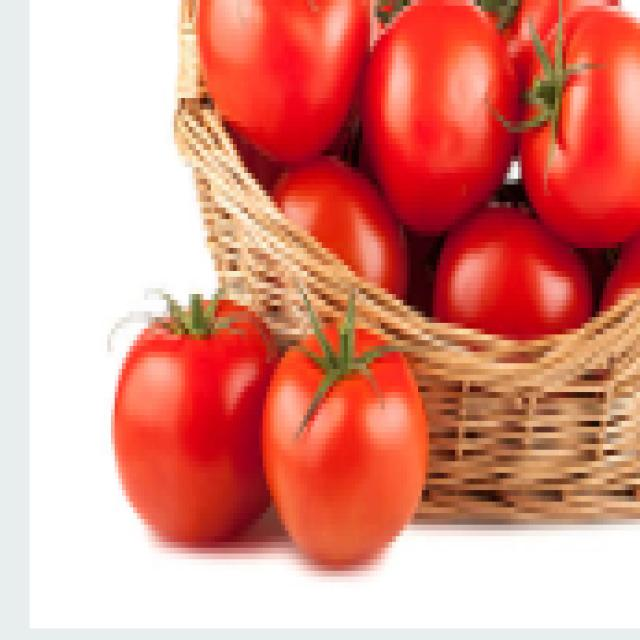Tomato: (106, 271, 283, 546), (254, 302, 435, 568)
